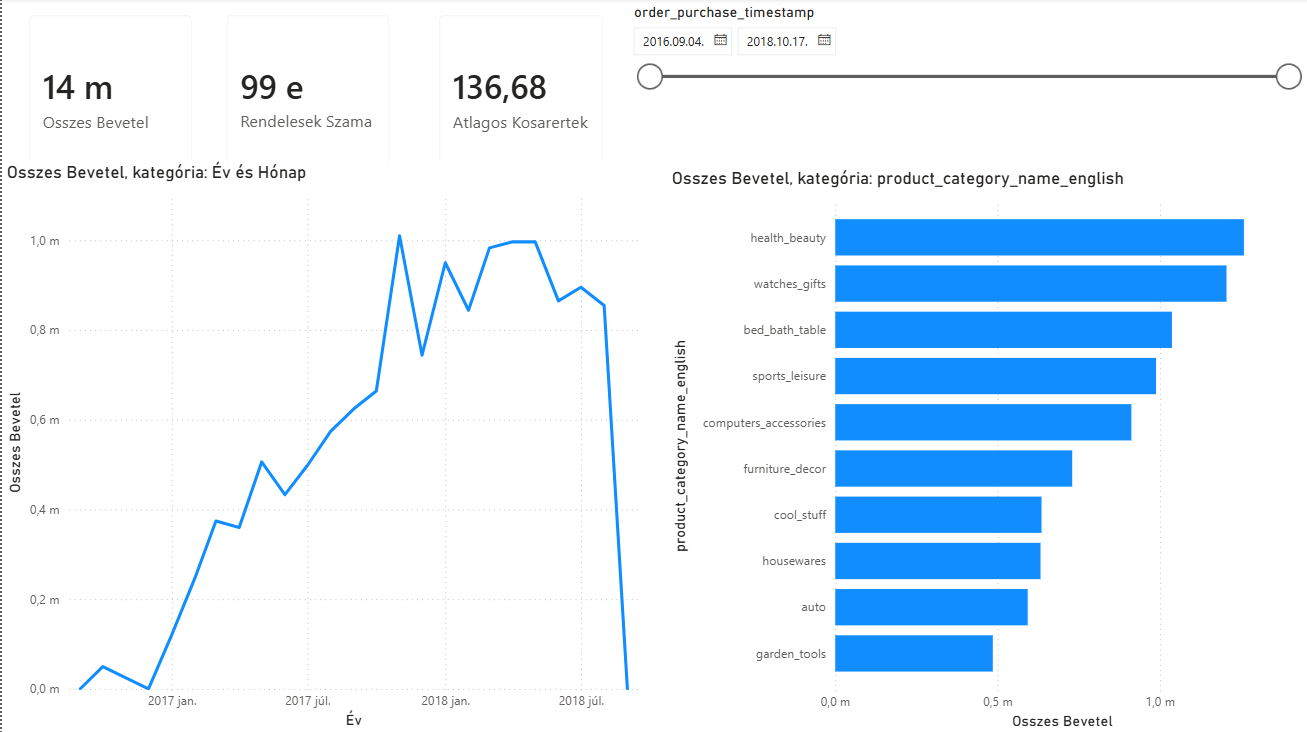

Layout of this report page (visuals, bound fields, positions):
{"tool":"powerbi","page":{"name":"1. oldal","canvas":[1280,720],"ordinal":0},"visuals":[{"type":"cardVisual","fields":{"Data":["olist_order_items_dataset.Osszes Bevetel"]},"box":[9.8,0,193.2,194.4],"z":0},{"type":"cardVisual","fields":{"Data":["olist_order_items_dataset.Rendelesek Szama"]},"box":[203.4,0,193.4,193.4],"z":1000},{"type":"cardVisual","fields":{"Data":["olist_order_items_dataset.Atlagos Kosarertek"]},"box":[410.7,0,194.2,194.2],"z":2000},{"type":"lineChart","fields":{"Category":["olist_orders_dataset.order_purchase_timestamp.Változat.Dátumhierarchia.Év","olist_orders_dataset.order_purchase_timestamp.Változat.Dátumhierarchia.Hónap"],"Y":["olist_order_items_dataset.Osszes Bevetel"]},"box":[0,160.7,640,559.7],"z":3000},{"type":"clusteredBarChart","fields":{"Category":["product_category_name_translation.product_category_name_english"],"Y":["olist_order_items_dataset.Osszes Bevetel"]},"box":[650.5,165.9,629.5,554.4],"z":4000},{"type":"slicer","fields":{"Values":["olist_orders_dataset.order_purchase_timestamp"]},"box":[605.5,0,674.5,165.4],"z":4001}]}

Visuals, with their boxes in screenshot pixels (x1, y1, x2, y2), scaled from the page's 1280x720 canvas onto the 1307x732 screenshot:
cardVisual - olist_order_items_dataset.Osszes Bevetel: {"x1": 10, "y1": 0, "x2": 207, "y2": 198}
cardVisual - olist_order_items_dataset.Rendelesek Szama: {"x1": 208, "y1": 0, "x2": 405, "y2": 197}
cardVisual - olist_order_items_dataset.Atlagos Kosarertek: {"x1": 419, "y1": 0, "x2": 618, "y2": 197}
lineChart - olist_orders_dataset.order_purchase_timestamp.Változat.Dátumhierarchia.Év x olist_orders_dataset.order_purchase_timestamp.Változat.Dátumhierarchia.Hónap: {"x1": 0, "y1": 163, "x2": 654, "y2": 731}
clusteredBarChart - product_category_name_translation.product_category_name_english x olist_order_items_dataset.Osszes Bevetel: {"x1": 664, "y1": 169, "x2": 1306, "y2": 731}
slicer - olist_orders_dataset.order_purchase_timestamp: {"x1": 618, "y1": 0, "x2": 1306, "y2": 168}
